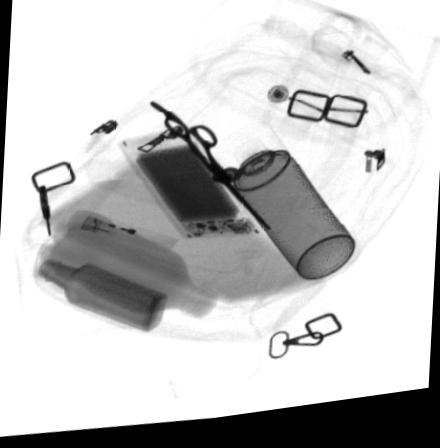Lighter: (79, 214, 181, 262)
Powerbank: (115, 128, 262, 248)
Scissors: (147, 101, 273, 238)
Sprayer: (209, 129, 355, 288)
